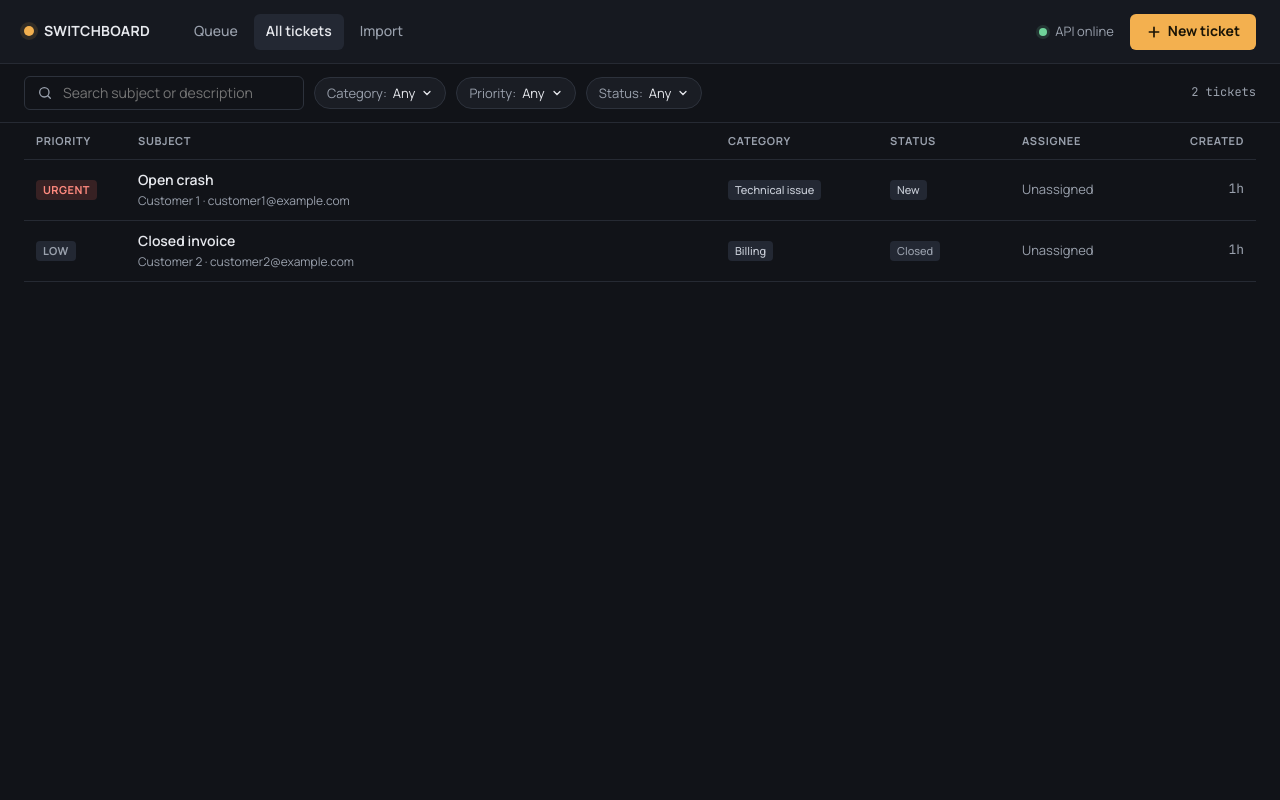
All tickets page › lists tickets of every status, filters through the URL and opens one
expect the text "Open crash" is shown: met, box [138,170,214,189]
expect the text "Closed invoice" is shown: met, box [138,231,235,250]
Click the text "Priority:". click: (493, 93)
box: [469,84,516,102]
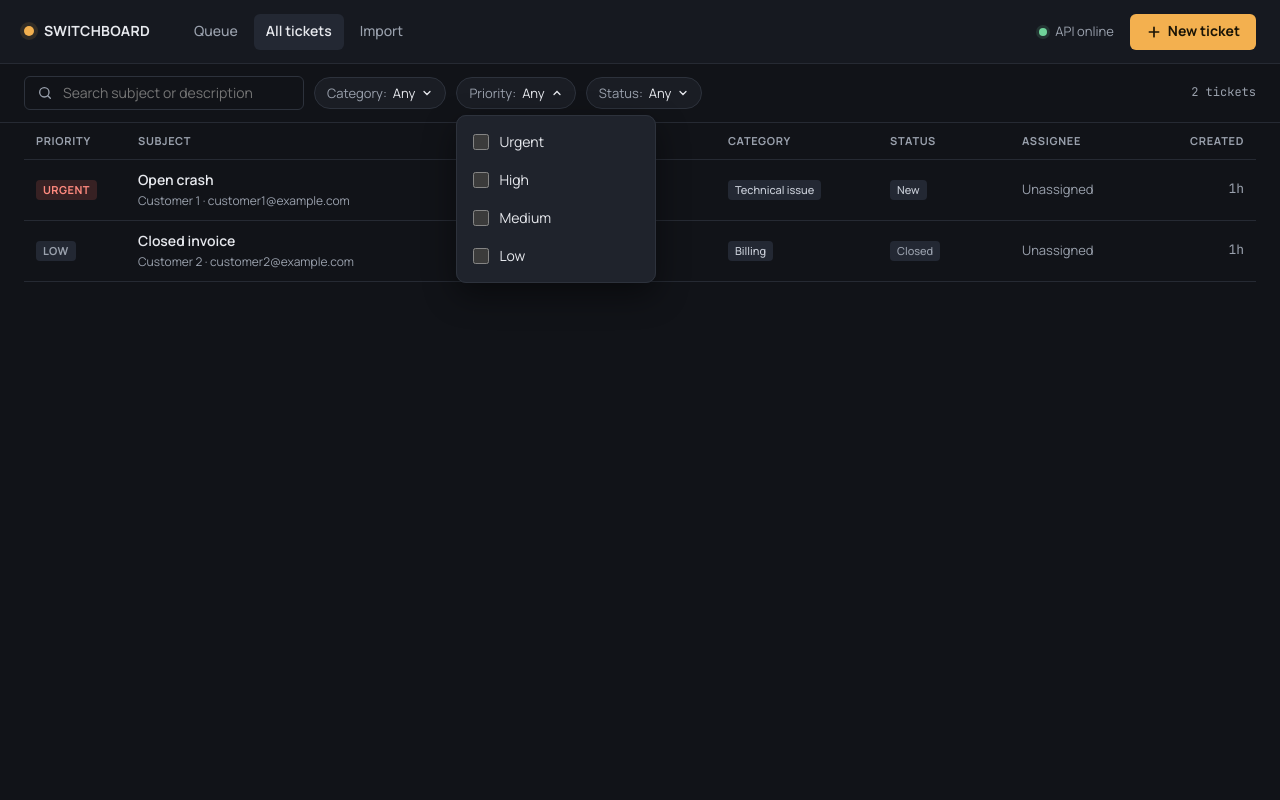
Click the checkbox labelled "Urgent". click: (481, 142)
box: [473,134,489,150]
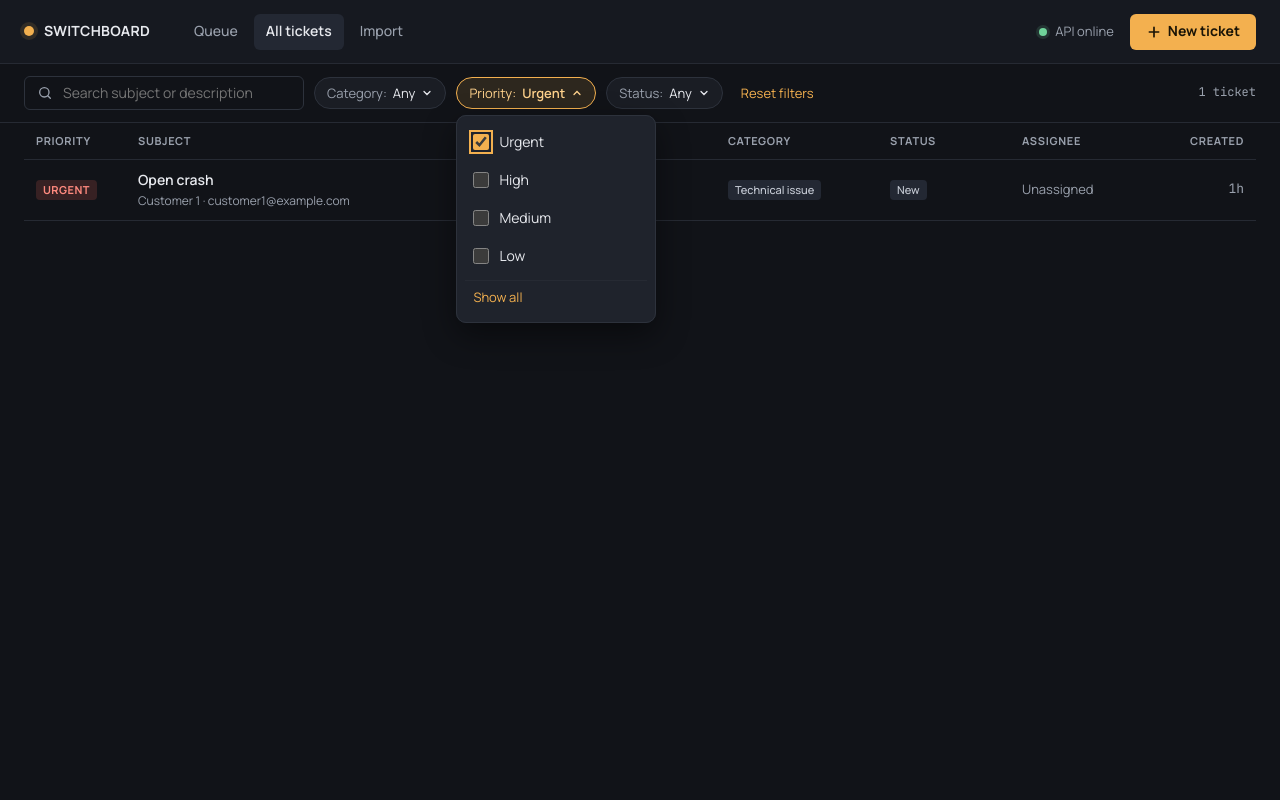
expect the text "Closed invoice" is gone: met
Click the text "Open crash". click: (176, 179)
box: [138,170,214,189]
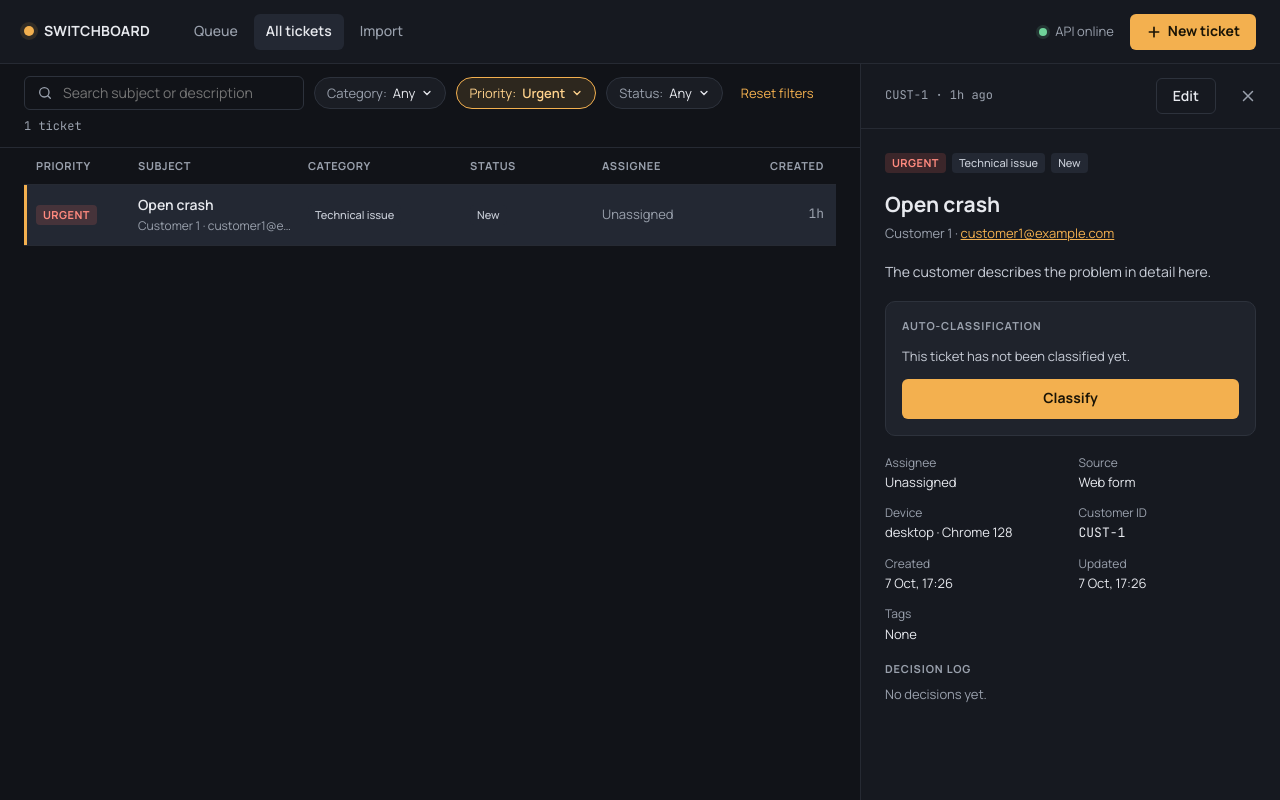
expect the element "Open crash" is shown: met, box [860,64,1279,799]
